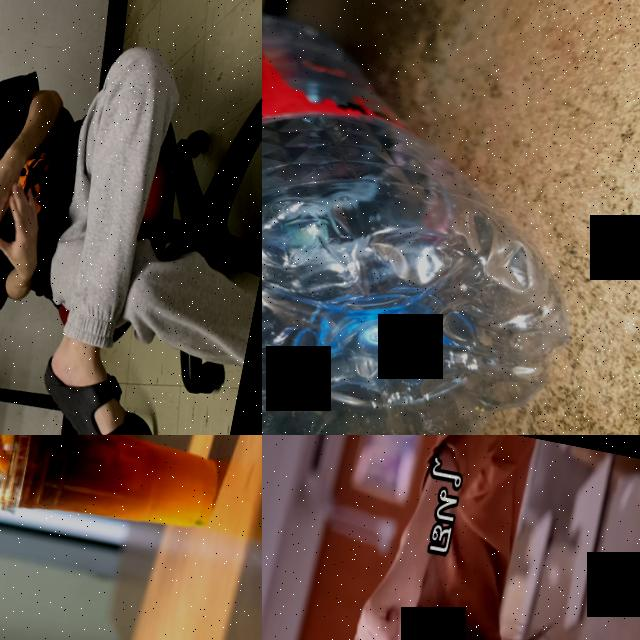bottle: (262, 0, 620, 435)
cup: (0, 435, 232, 552)
